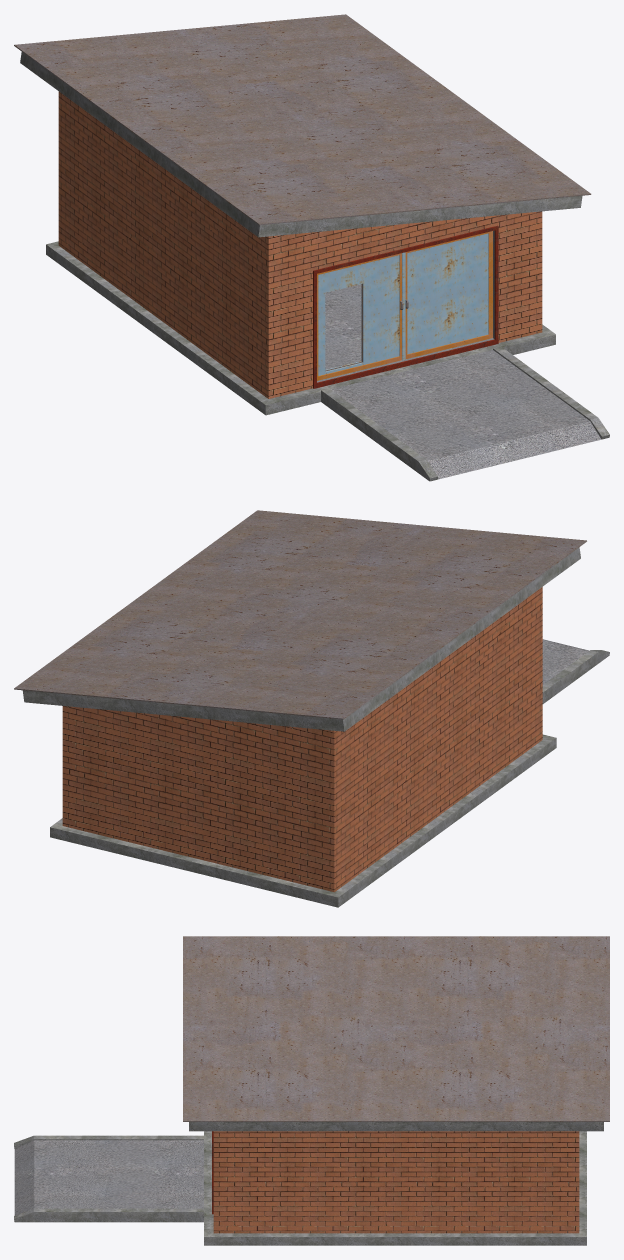
File: garage.obj
3 views of the same model, one above another, from view 1: azimuth 30°, elevation 25°; view 2: azimuth 150°, elevation 25°; view 3: azimuth 270°, elevation 25° (orthographic). The views are drawn at different scales.
Parts seen in each view (by area): view 1: Rectangle001, Box001; view 2: Rectangle001; view 3: Rectangle001.
Part boxes in pixels (box(x1,y1,x2,y2)): Rectangle001: box(14, 14, 609, 481); Box001: box(317, 231, 492, 380); Rectangle001: box(14, 510, 609, 907); Rectangle001: box(14, 936, 609, 1245).
Size of the model in its own units: 6.62 by 3.9 by 11.81.
8 materials, 7 textured.
